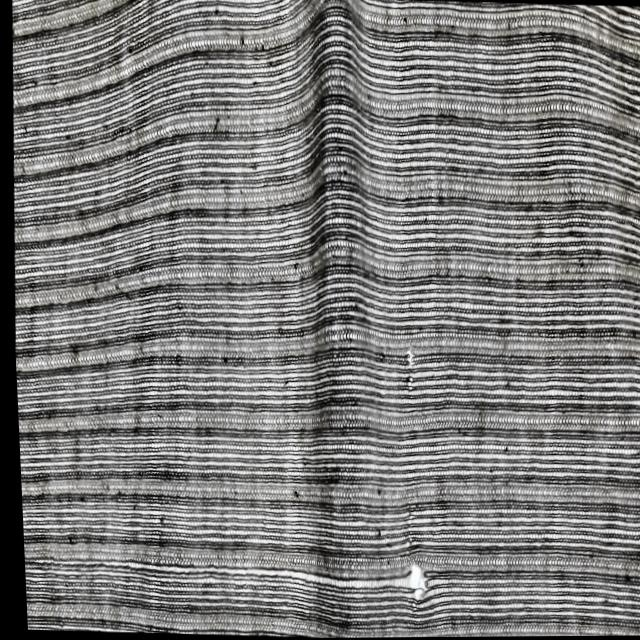Stitch: (25, 514, 438, 635)
